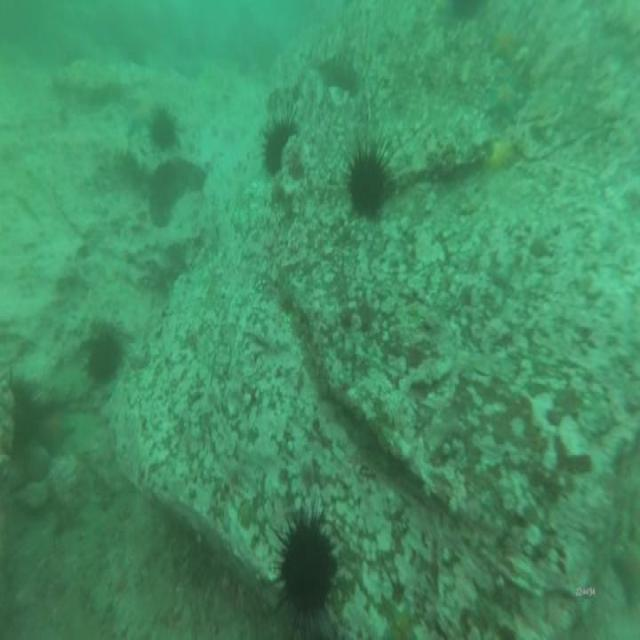echinus: (267, 507, 341, 631), (340, 137, 393, 226), (82, 322, 126, 393), (260, 112, 300, 180), (14, 378, 38, 455), (146, 101, 180, 155)
holothurian: (146, 152, 205, 232)
starfish: (33, 412, 78, 462), (486, 75, 529, 126), (486, 24, 526, 71)
